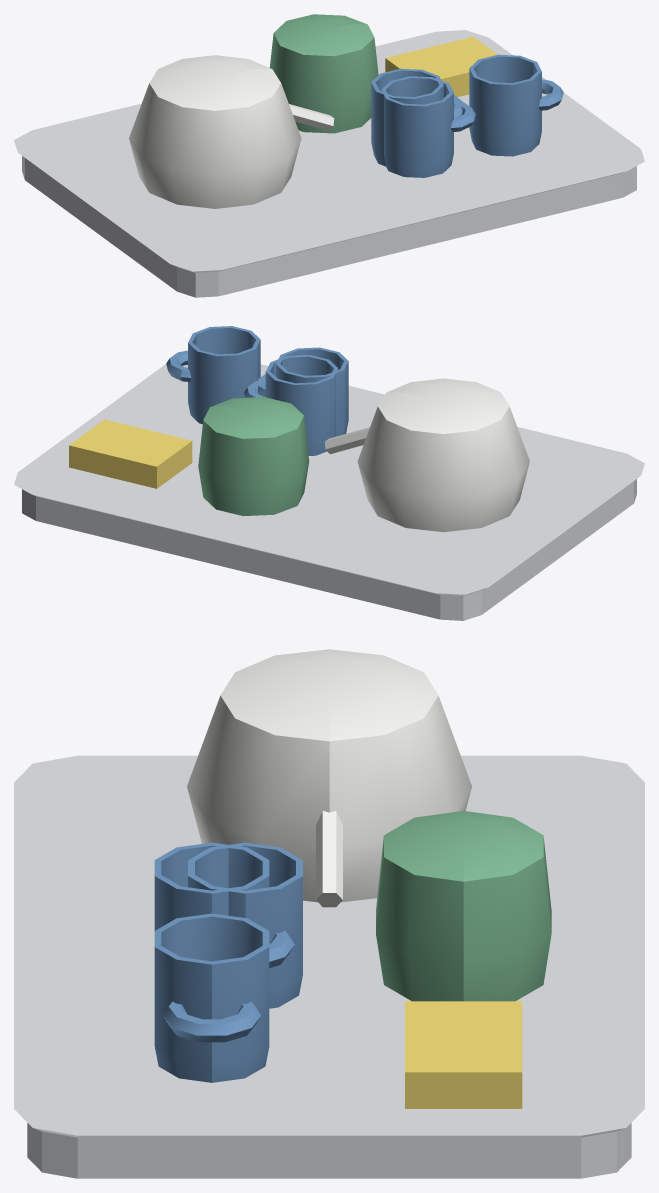
3 views of the same model, one above another, from view 1: azimuth 30°, elevation 25°; view 2: azimuth 150°, elevation 25°; view 3: azimuth 270°, elevation 25° (orthographic). The views are drawn at different scales.
Parts seen in each view (by area): view 1: tea-and-coffee-tray; view 2: tea-and-coffee-tray; view 3: tea-and-coffee-tray.
Boxes of the visible parts, x1,y1,x2,y2 form: tea-and-coffee-tray: [14, 14, 644, 297]; tea-and-coffee-tray: [14, 326, 644, 620]; tea-and-coffee-tray: [14, 649, 644, 1178].
Size of the model in its own units: 0.536 by 0.149 by 0.376.
